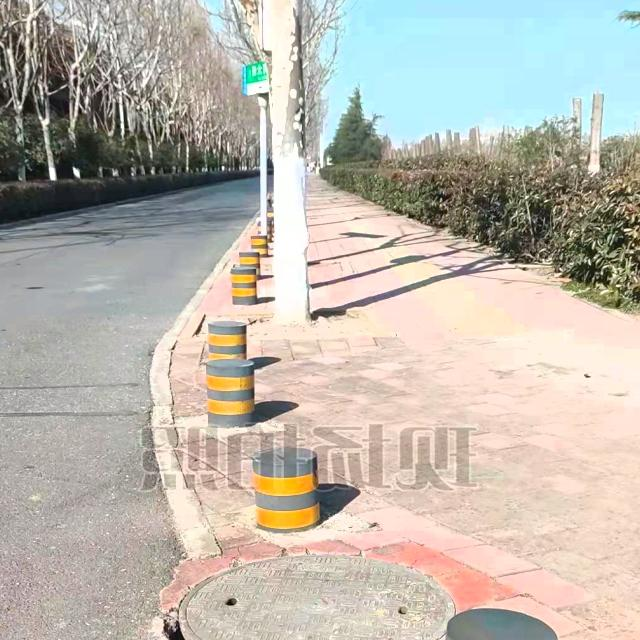circle: (156, 544, 461, 640)
